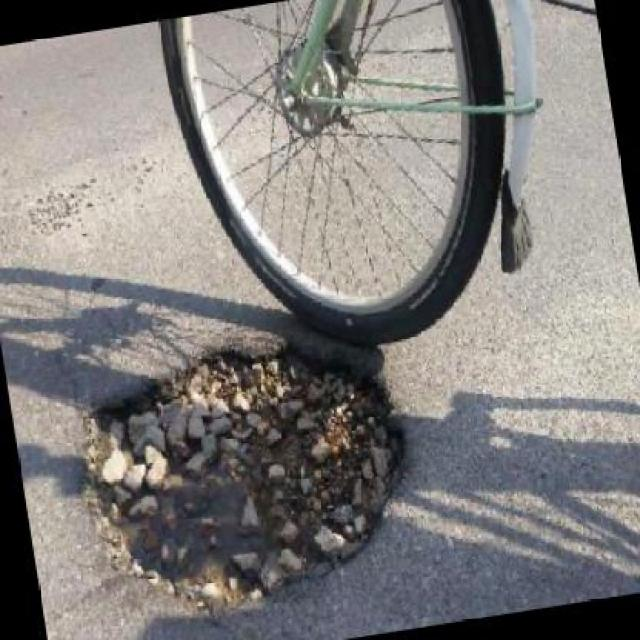pothole: (64, 315, 431, 628)
